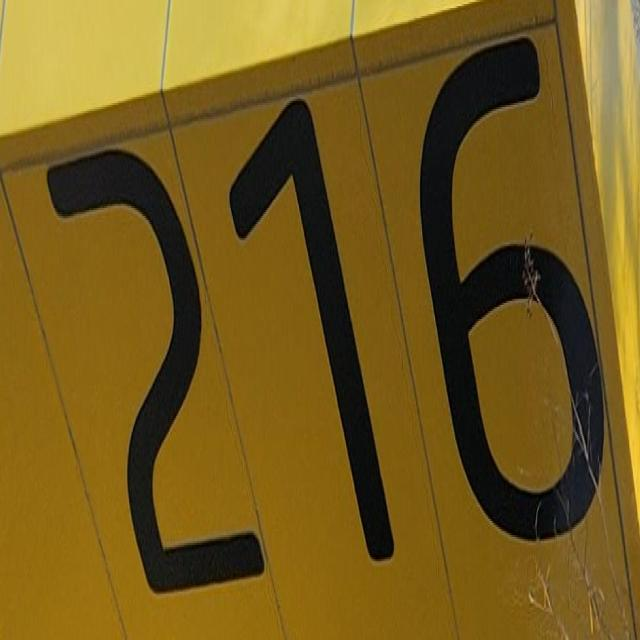character: (45, 143, 268, 602), (416, 28, 608, 553), (227, 87, 397, 571)
